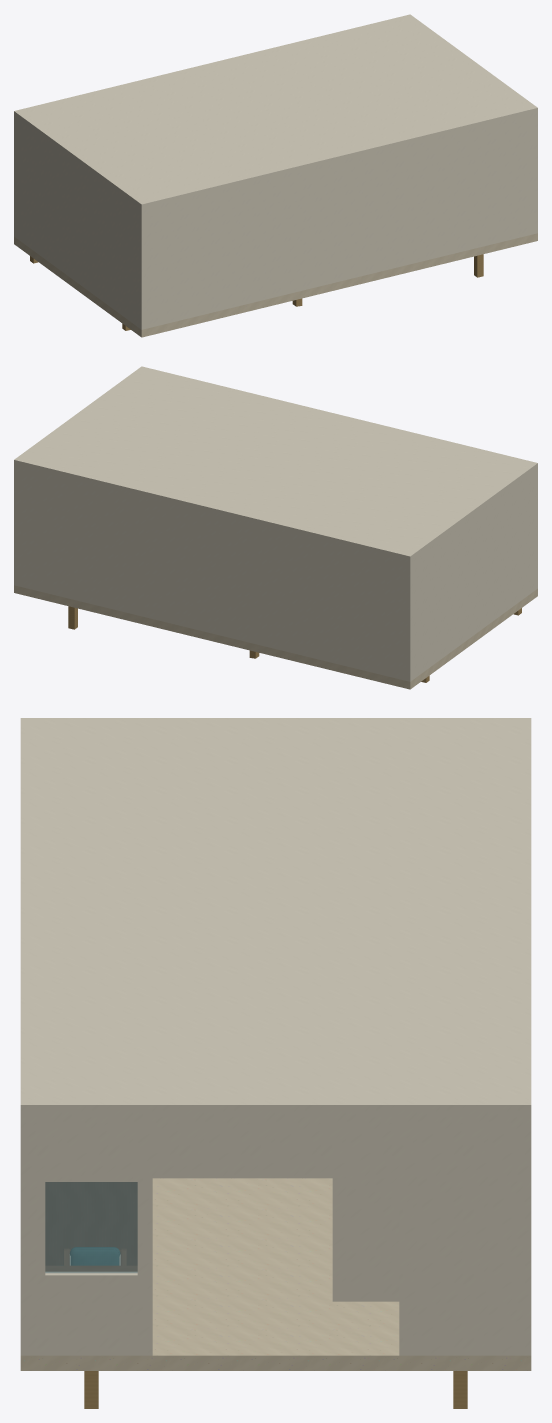
File: StarAtlasSpecialty_479.glb
The picture shows the model from 3 angles, top to bottom: view 1: azimuth 30°, elevation 25°; view 2: azimuth 150°, elevation 25°; view 3: azimuth 270°, elevation 25°; orthographic projection. The views are drawn at different scales.
Visible parts, largest first — view 1: SA479_Ceiling, SA479_NorthSide, SA479_OpaqueRearBoundary, SA479_RoomFloor; view 2: SA479_Ceiling, SA479_SouthSide, SA479_OpaqueRearBoundary, SA479_RoomFloor; view 3: SA479_Ceiling, SA479_RoomFloor, SA479_EntryShoulderSouth, SA479_EntryHeader, SA479_StreetWindowLower, SA479_ScreenedStreetGlass, SA479_WashEntrySide, SA479_StreetWindowUpper, SA479_EntryPrivacyDogleg, SA479_NorthSide, SA479_SouthSide, SA479_StreetWindowOuterPier (+2 smaller).
Boxes of the visible parts, <box> form: SA479_Ceiling: <box>14,14,537,209</box>; SA479_NorthSide: <box>139,113,537,329</box>; SA479_OpaqueRearBoundary: <box>16,118,139,327</box>; SA479_RoomFloor: <box>14,233,537,337</box>; SA479_Ceiling: <box>14,366,537,561</box>; SA479_SouthSide: <box>14,465,412,681</box>; SA479_OpaqueRearBoundary: <box>412,470,535,679</box>; SA479_RoomFloor: <box>14,585,537,689</box>; SA479_Ceiling: <box>20,718,531,1115</box>; SA479_RoomFloor: <box>20,1178,531,1370</box>; SA479_EntryShoulderSouth: <box>399,1115,522,1355</box>; SA479_EntryHeader: <box>148,1115,403,1178</box>; SA479_StreetWindowLower: <box>29,1272,152,1355</box>; SA479_ScreenedStreetGlass: <box>45,1182,137,1272</box>; SA479_WashEntrySide: <box>332,1178,399,1301</box>; SA479_StreetWindowUpper: <box>29,1115,152,1181</box>; SA479_EntryPrivacyDogleg: <box>45,1182,137,1265</box>; SA479_NorthSide: <box>20,1115,28,1355</box>; SA479_SouthSide: <box>523,1115,531,1355</box>; SA479_StreetWindowOuterPier: <box>29,1182,45,1275</box>.
Size of the model in its own units: 12.9 by 5.31 by 7.2.
64 materials, 49 textured.
